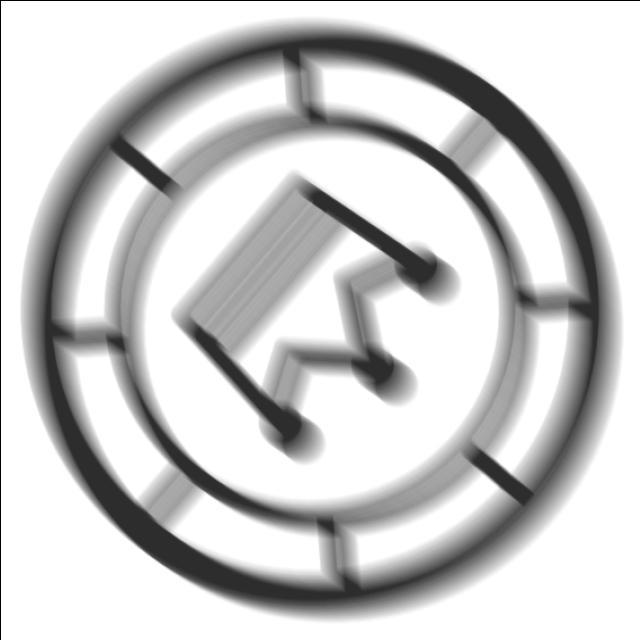coin: (17, 11, 625, 626)
